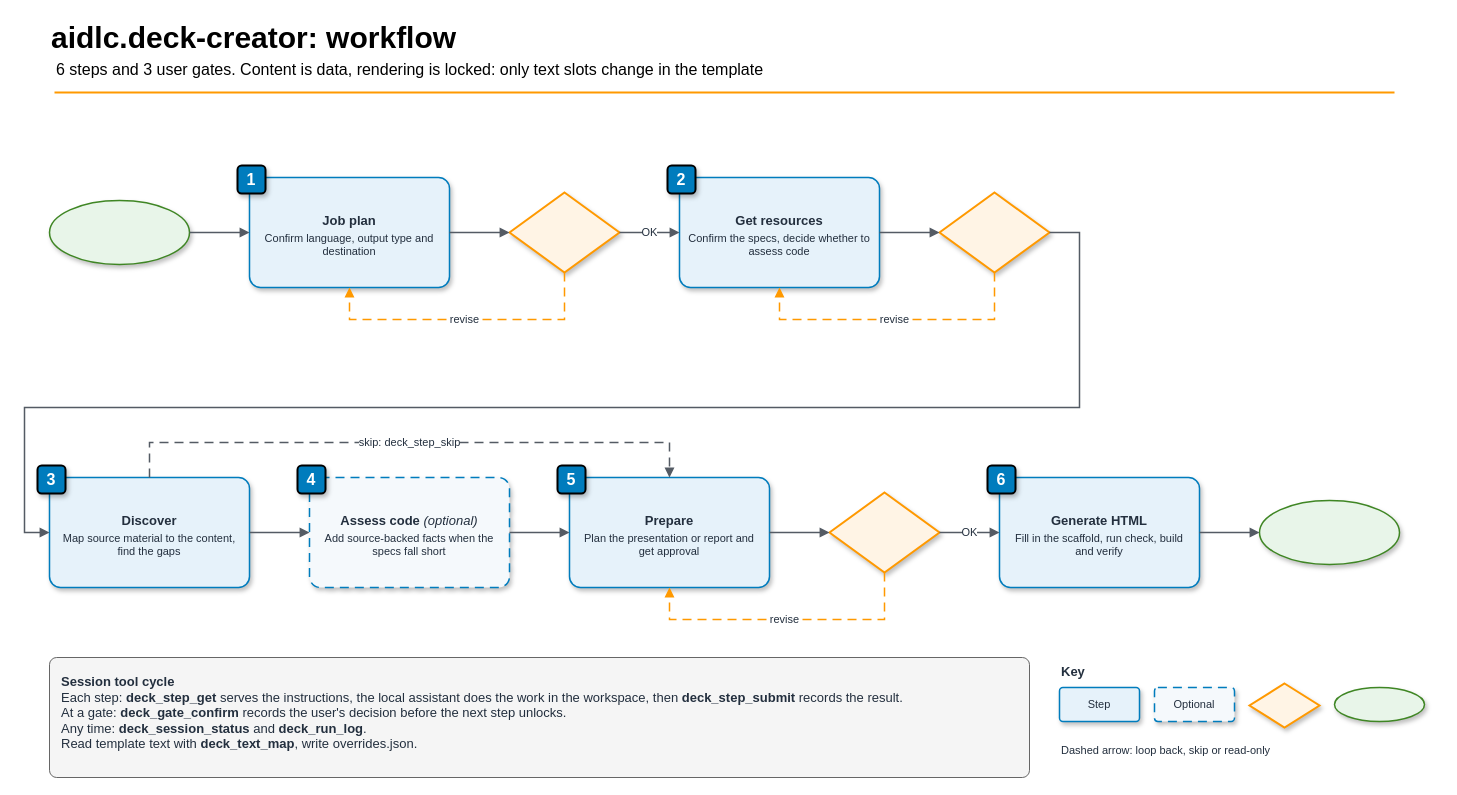
Image size: 1457x795. Some labels were removed from this diagram. Each missing label, with the centre of its shape:
"Done" goes at point (1330, 533).
"Gate" goes at point (1285, 706).
"Gate 1 user OK" goes at point (565, 233).
"Gate 2 user OK" goes at point (995, 233).
"Gate 3 user OK" goes at point (885, 533).
"Start / end" goes at point (1380, 705).
"Start deck_start" goes at point (120, 233).
